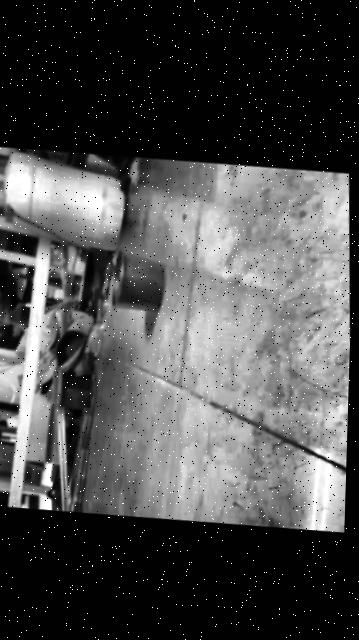pot: (106, 247, 164, 316)
